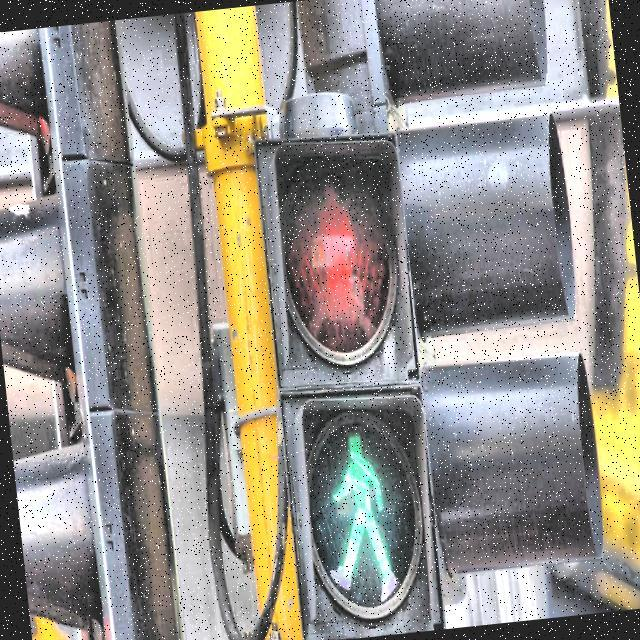green_light: (314, 423, 401, 610)
